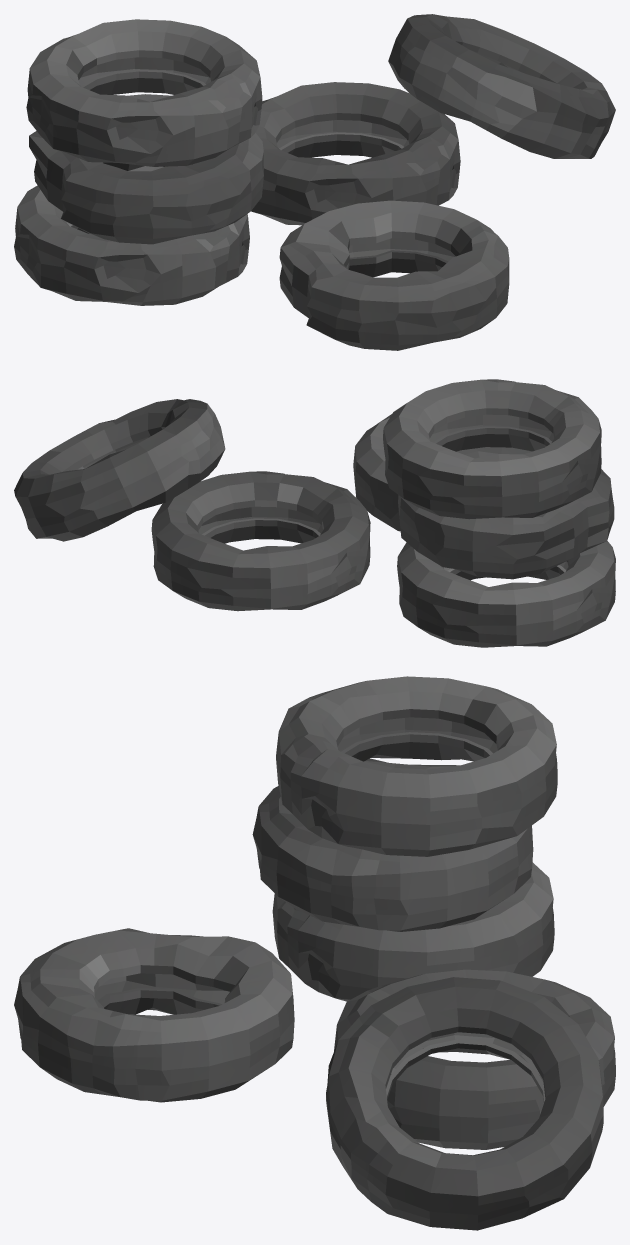
File: tire_cluster.glb
The picture shows the model from 3 angles, top to bottom: view 1: azimuth 30°, elevation 25°; view 2: azimuth 150°, elevation 25°; view 3: azimuth 270°, elevation 25°; orthographic projection. The views are drawn at different scales.
Parts seen in each view (by area): view 1: tire_cluster; view 2: tire_cluster; view 3: tire_cluster.
Boxes of the visible parts, left/top/right/bottom form: tire_cluster: left=14, top=14, right=615, bottom=350; tire_cluster: left=14, top=379, right=615, bottom=647; tire_cluster: left=14, top=676, right=615, bottom=1230.
Bounding box in the file's own units: 3.33 × 1.12 × 2.44.
Materials: 1 (1 with a texture image).
